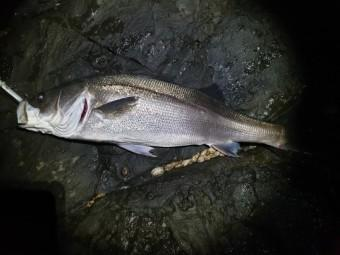fish: (17, 76, 301, 160)
